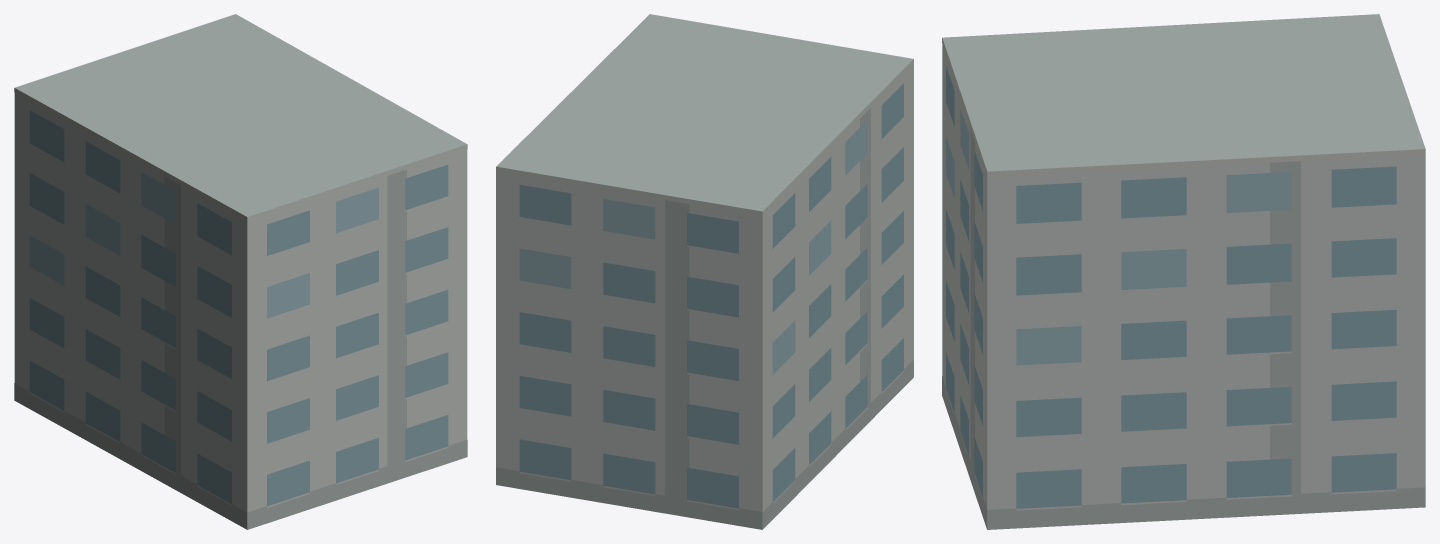
Rendered from survey-upis-32575374.glb.
3 renders of one model, left to right at view 1: azimuth 30°, elevation 25°; view 2: azimuth 150°, elevation 25°; view 3: azimuth 270°, elevation 25°, orthographic. The views are drawn at different scales.
Visible parts, largest first — view 1: survey-upis-32575374.tmp; view 2: survey-upis-32575374.tmp; view 3: survey-upis-32575374.tmp.
Part boxes in pixels (x1,y1,x2,y2): survey-upis-32575374.tmp: (14,14,467,529); survey-upis-32575374.tmp: (496,14,913,529); survey-upis-32575374.tmp: (942,14,1425,529).
Bounding box in the file's own units: 14.25 × 15.1 × 18.48.
